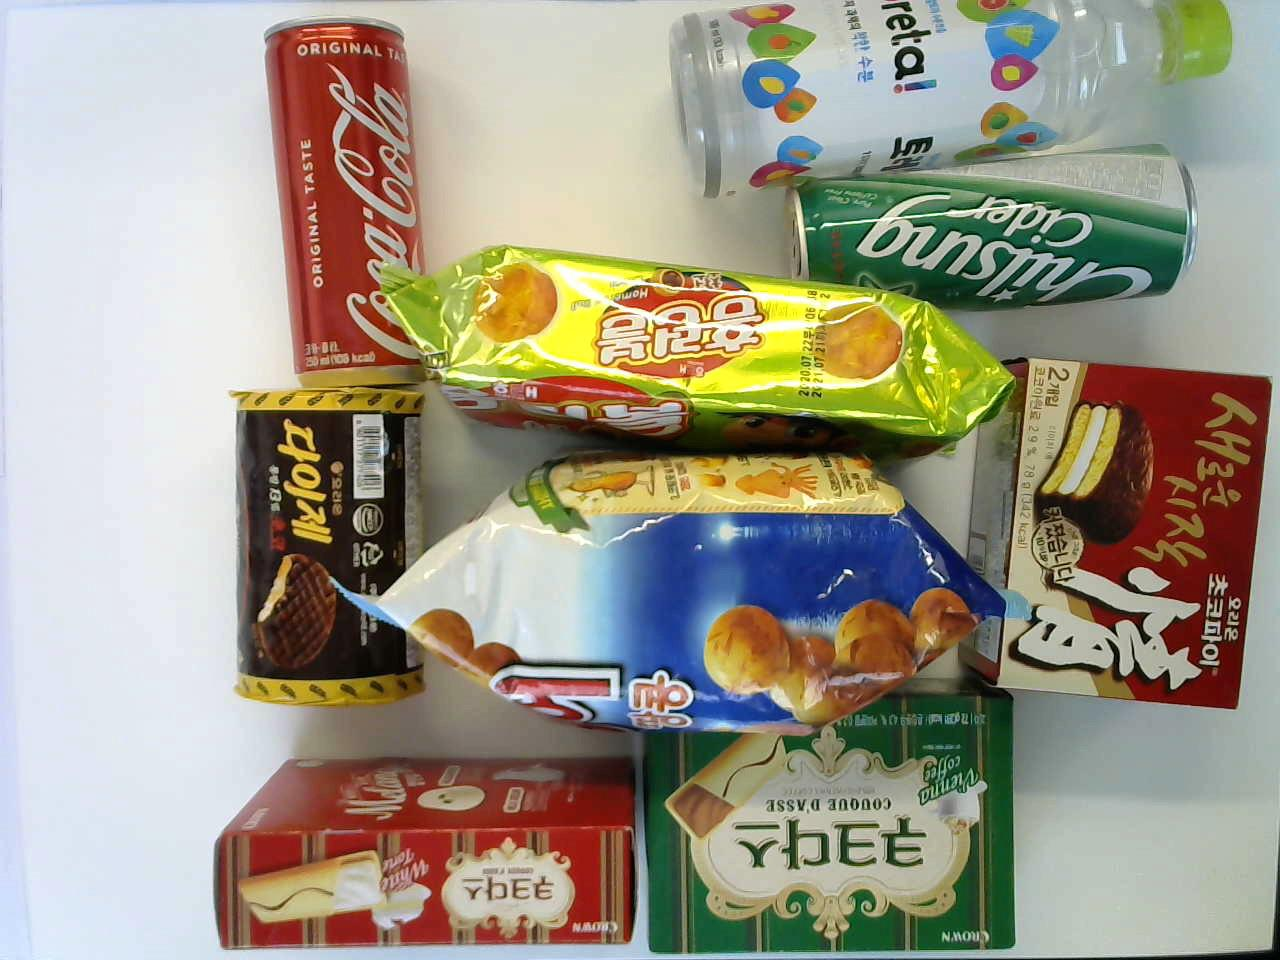chocopie: (958, 348, 1272, 709)
cidar: (781, 148, 1184, 299)
coke: (250, 13, 435, 386)
couque_coffee: (644, 695, 1016, 947)
couque_white: (209, 758, 631, 949)
diget_choco: (230, 387, 436, 706)
homerunball: (433, 247, 1005, 446)
squid_peanut: (378, 449, 1021, 734)
toreta: (669, 0, 1233, 198)
